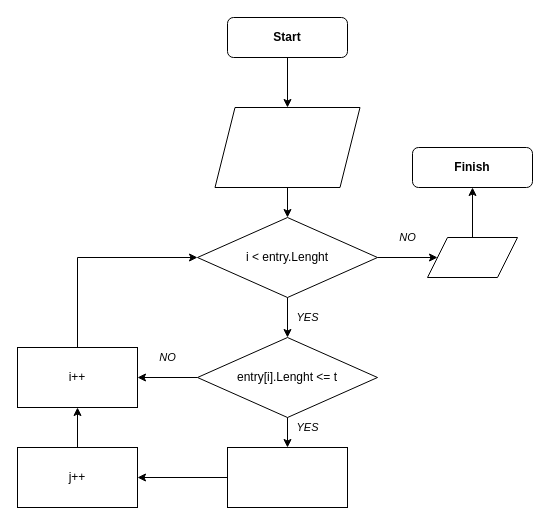
Image size: 550x525. Some labels were removed from this diagram. The centre of each missing label's shape, as x and y in pixels:
exit: point (472, 257)
exit[j] = entry[i]: point (287, 477)
string[] entry, string[] exit, int i = 0, int j = 0, int t = 3.: point (287, 147)
